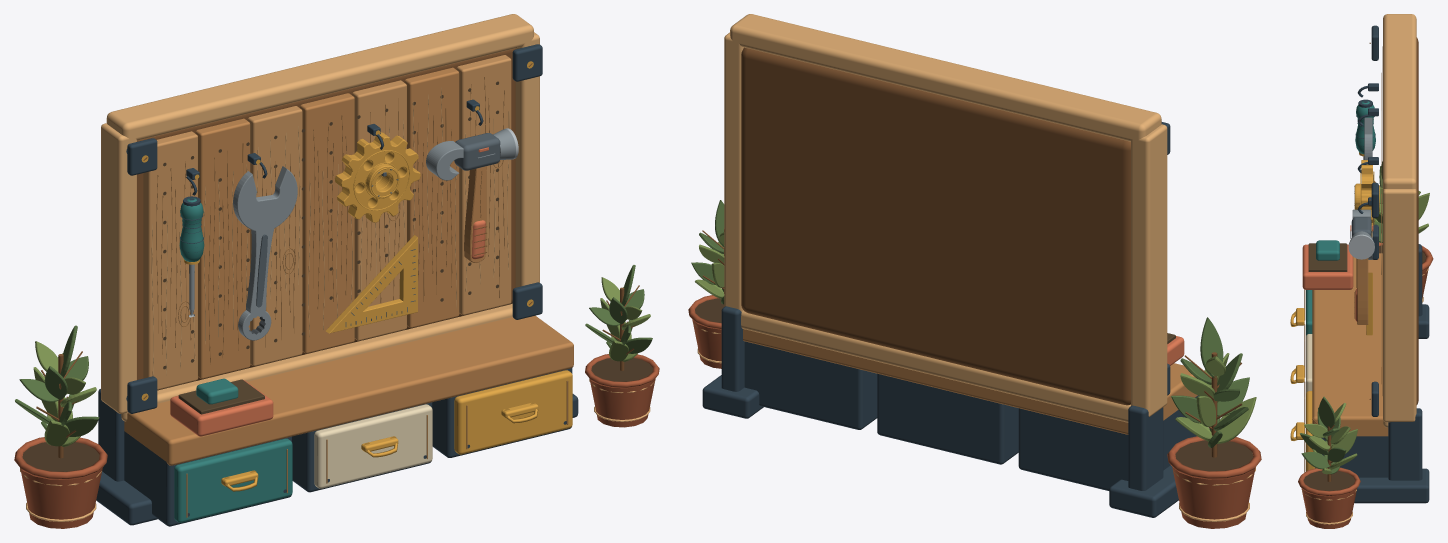
Rendered from workshop-tool-rack-final.glb.
3 renders of one model, left to right at view 1: azimuth 30°, elevation 25°; view 2: azimuth 150°, elevation 25°; view 3: azimuth 270°, elevation 25°, orthographic. The views are drawn at different scales.
Parts seen in each view (by area): view 1: timber (×2), plank, edge, brass (×3), navy, teal (×2), pot (×2), cream, grain, steel (×2), darkWood, grainLight (+4 smaller); view 2: darkWood, edge, navy, pot (×2), timber, soil, Leaf_8, Leaf_1; view 3: edge, timber (×2), navy, pot (×2), brass (×3), teal (×2), coral, darkWood, soil, shadow, steel (×2), steelEdge (+11 smaller).
Part boxes in pixels (x1,y1,x2,y2): timber (×2): (124,67,573,465); plank: (143,55,511,389); edge: (101,14,539,421); brass (×3): (141,61,572,491); navy: (96,44,578,526); teal (×2): (174,198,292,522); pot (×2): (14,354,659,528); cream: (314,404,432,488); grain: (156,77,568,517); steel (×2): (233,129,515,340); darkWood: (137,48,532,398); grainLight: (151,88,509,375); darkWood: (741,47,1130,405); edge: (724,14,1167,422); navy: (702,122,1199,517); pot (×2): (688,295,1261,528); timber: (743,329,1197,434); soil: (1175,440,1253,471); Leaf_8: (1200,317,1223,377); Leaf_1: (1217,397,1256,443); edge: (1383,14,1416,427); timber (×2): (1312,68,1388,436); navy: (1315,25,1429,503); pot (×2): (1298,242,1433,528); brass (×3): (1290,160,1379,471); teal (×2): (1306,101,1375,335); coral: (1302,244,1353,289); darkWood: (1354,37,1418,404); soil: (1303,470,1355,490); shadow: (1308,243,1347,271); steel (×2): (1350,117,1372,259); steelEdge: (1348,234,1374,259).
Size of the model in its own units: 2.04 by 1.25 by 0.5082.
